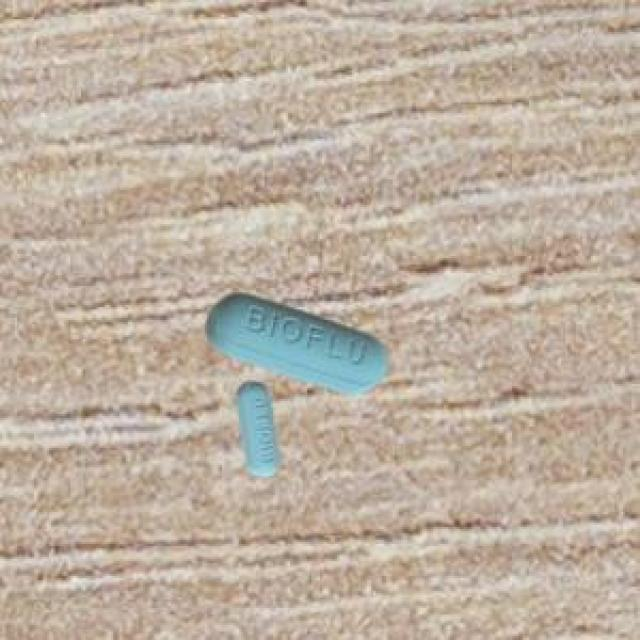Bioflu: (196, 273, 398, 494)
